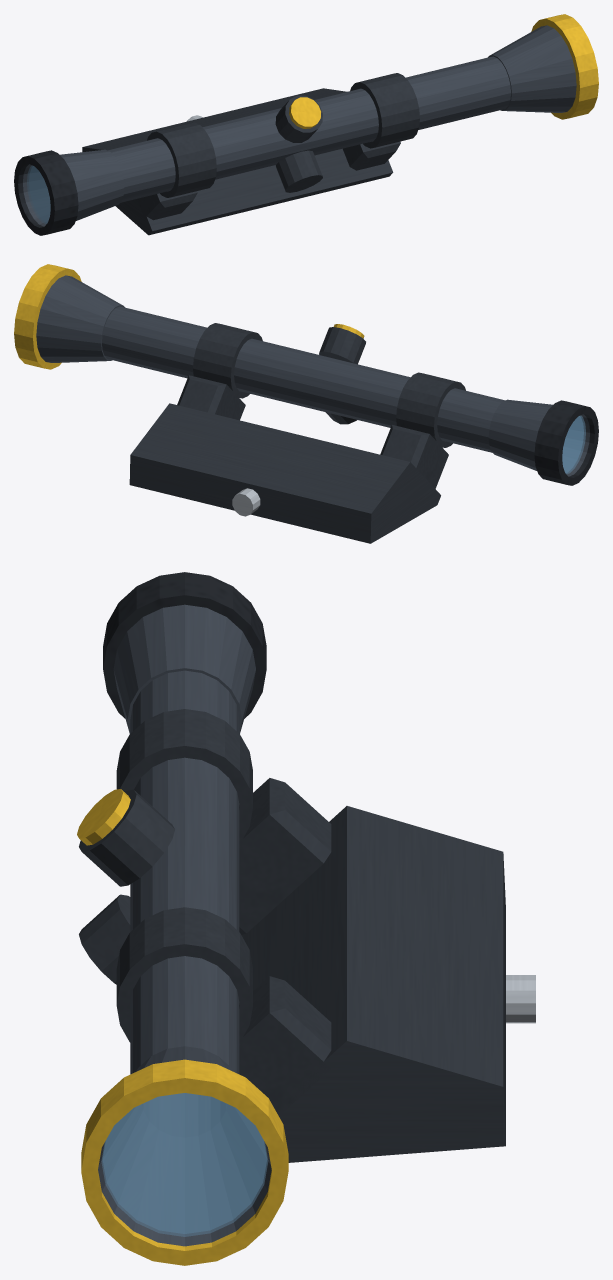
The model's file is sight_scope_canted_v2.glb.
3 views of the same model, one above another, from view 1: azimuth 30°, elevation 25°; view 2: azimuth 150°, elevation 25°; view 3: azimuth 270°, elevation 25° (orthographic). The views are drawn at different scales.
Parts seen in each view (by area): view 1: sight_scope_canted_mesh; view 2: sight_scope_canted_mesh; view 3: sight_scope_canted_mesh.
Part boxes in pixels (bbox=[...]): sight_scope_canted_mesh: bbox=[14, 14, 598, 235]; sight_scope_canted_mesh: bbox=[14, 264, 598, 543]; sight_scope_canted_mesh: bbox=[77, 572, 535, 1265].
Size of the model in its own units: 0.228 by 0.0523 by 0.0842.
9 materials, 7 textured.
